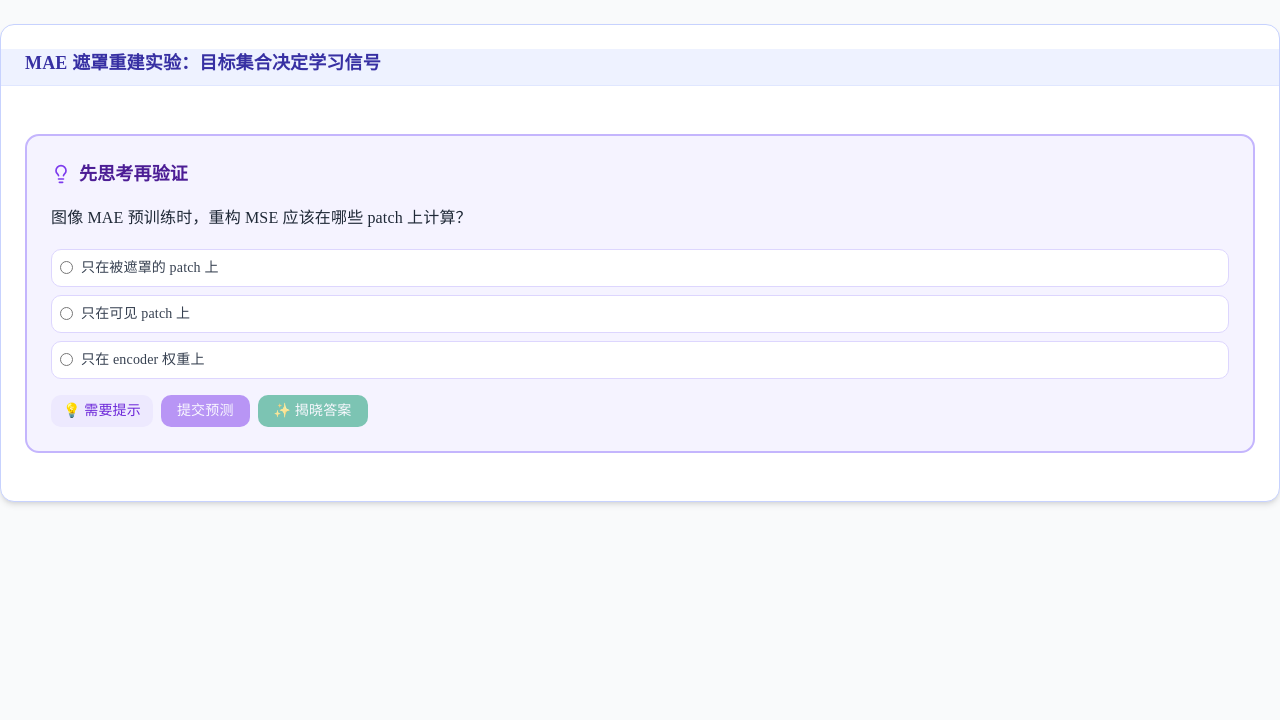
chapter 16 autoencoders teaching-ready loop › gates the MAE reconstruction experiment behind the masked-patch prediction
The image size is (1280, 720).
Click the radio button labelled "只在被遮罩的 patch 上": (66, 268) [60,261,73,274]
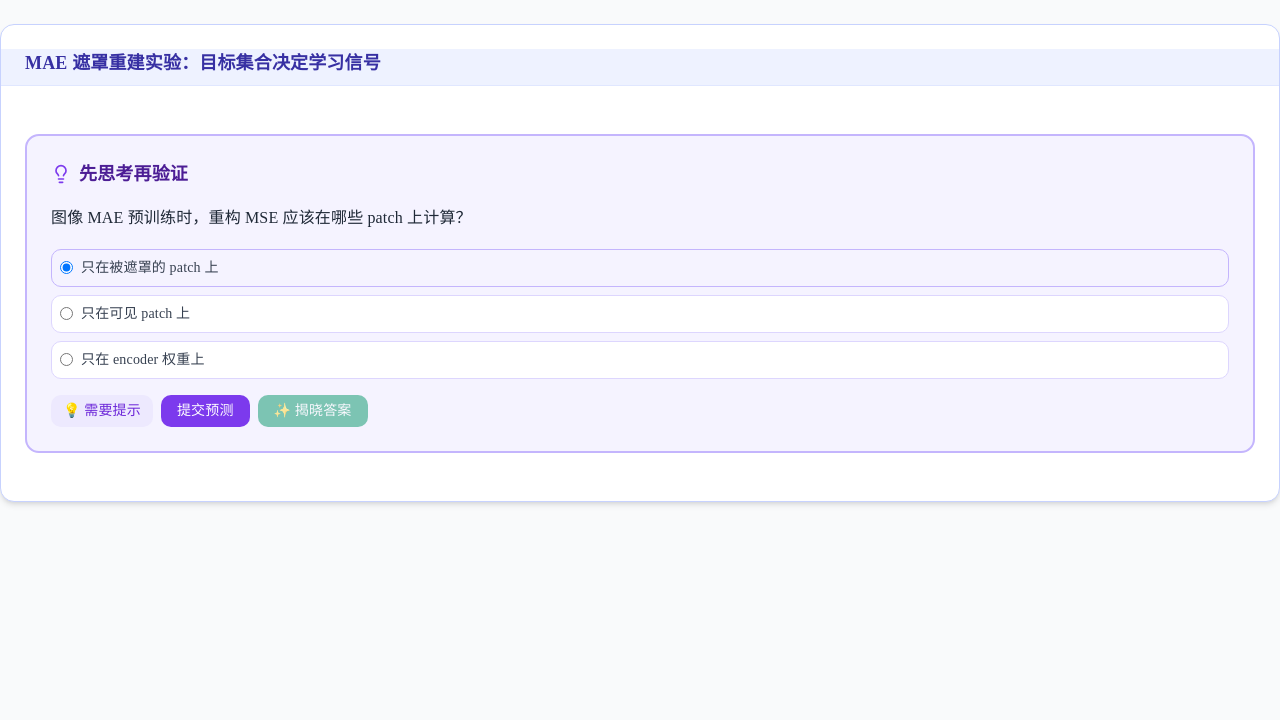
Click the button "提交预测": (205, 411) [161,395,250,427]
(page scrolled)
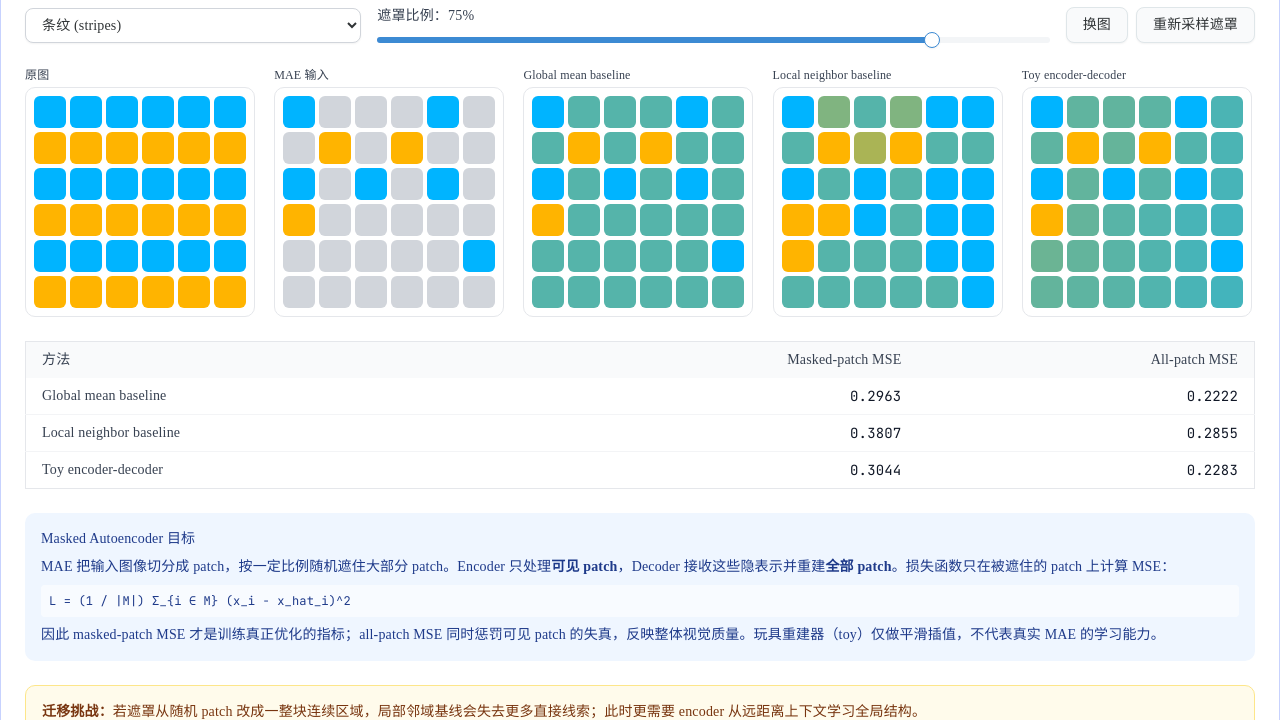
Expected: the column heading "Masked-patch MSE" is shown, [506,342,917,378]
